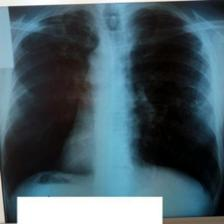tuberculosis: (0, 4, 224, 218)
